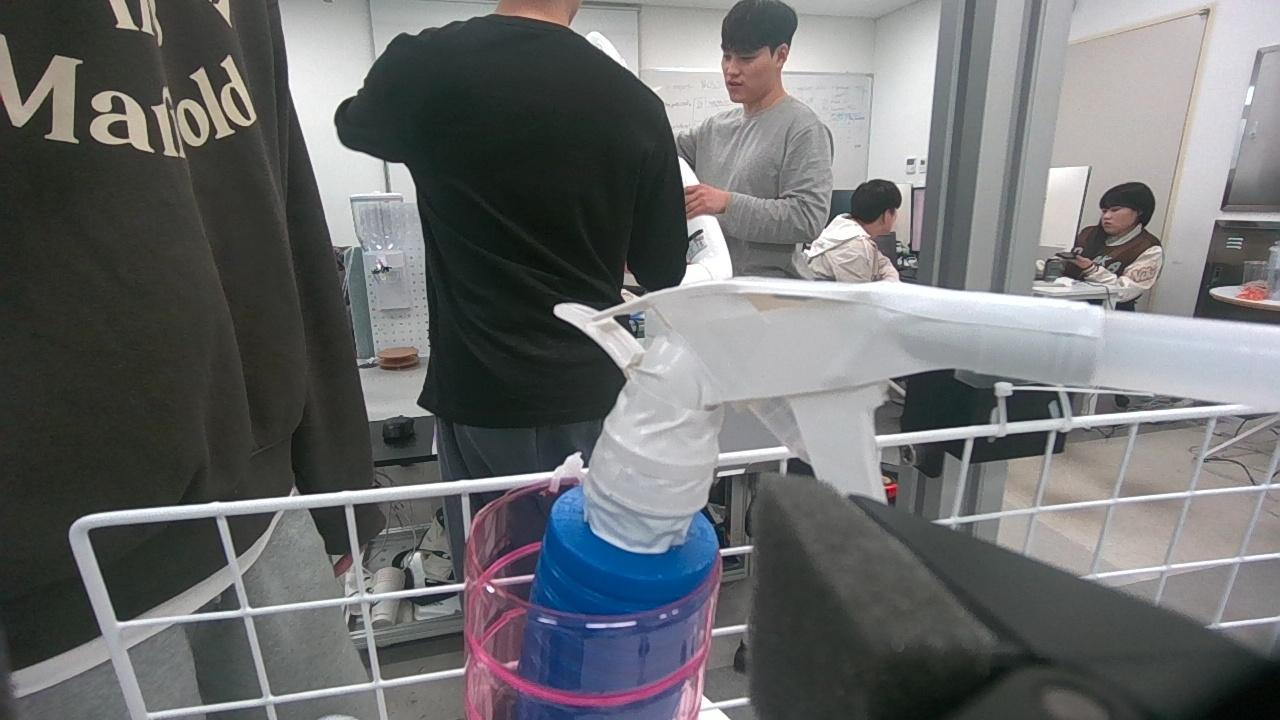Nozzle: (509, 263, 1112, 720)
